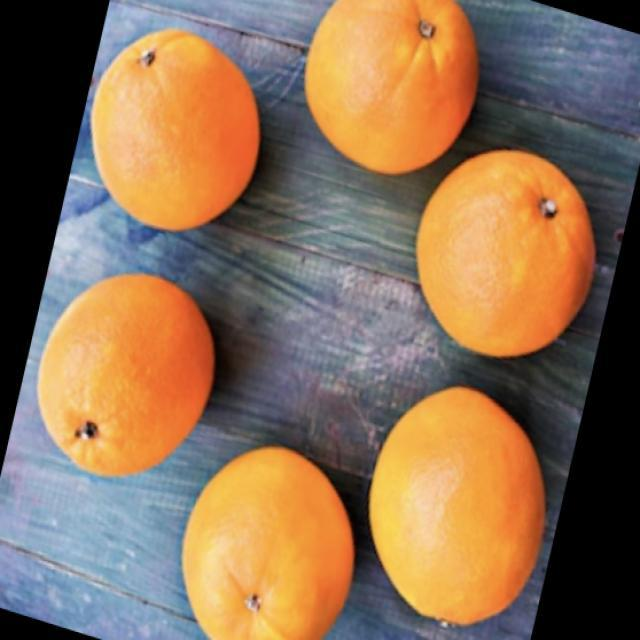Orange: (367, 384, 546, 627), (415, 148, 596, 358), (36, 272, 215, 477), (89, 27, 261, 232), (180, 444, 355, 639), (303, 0, 479, 175)
